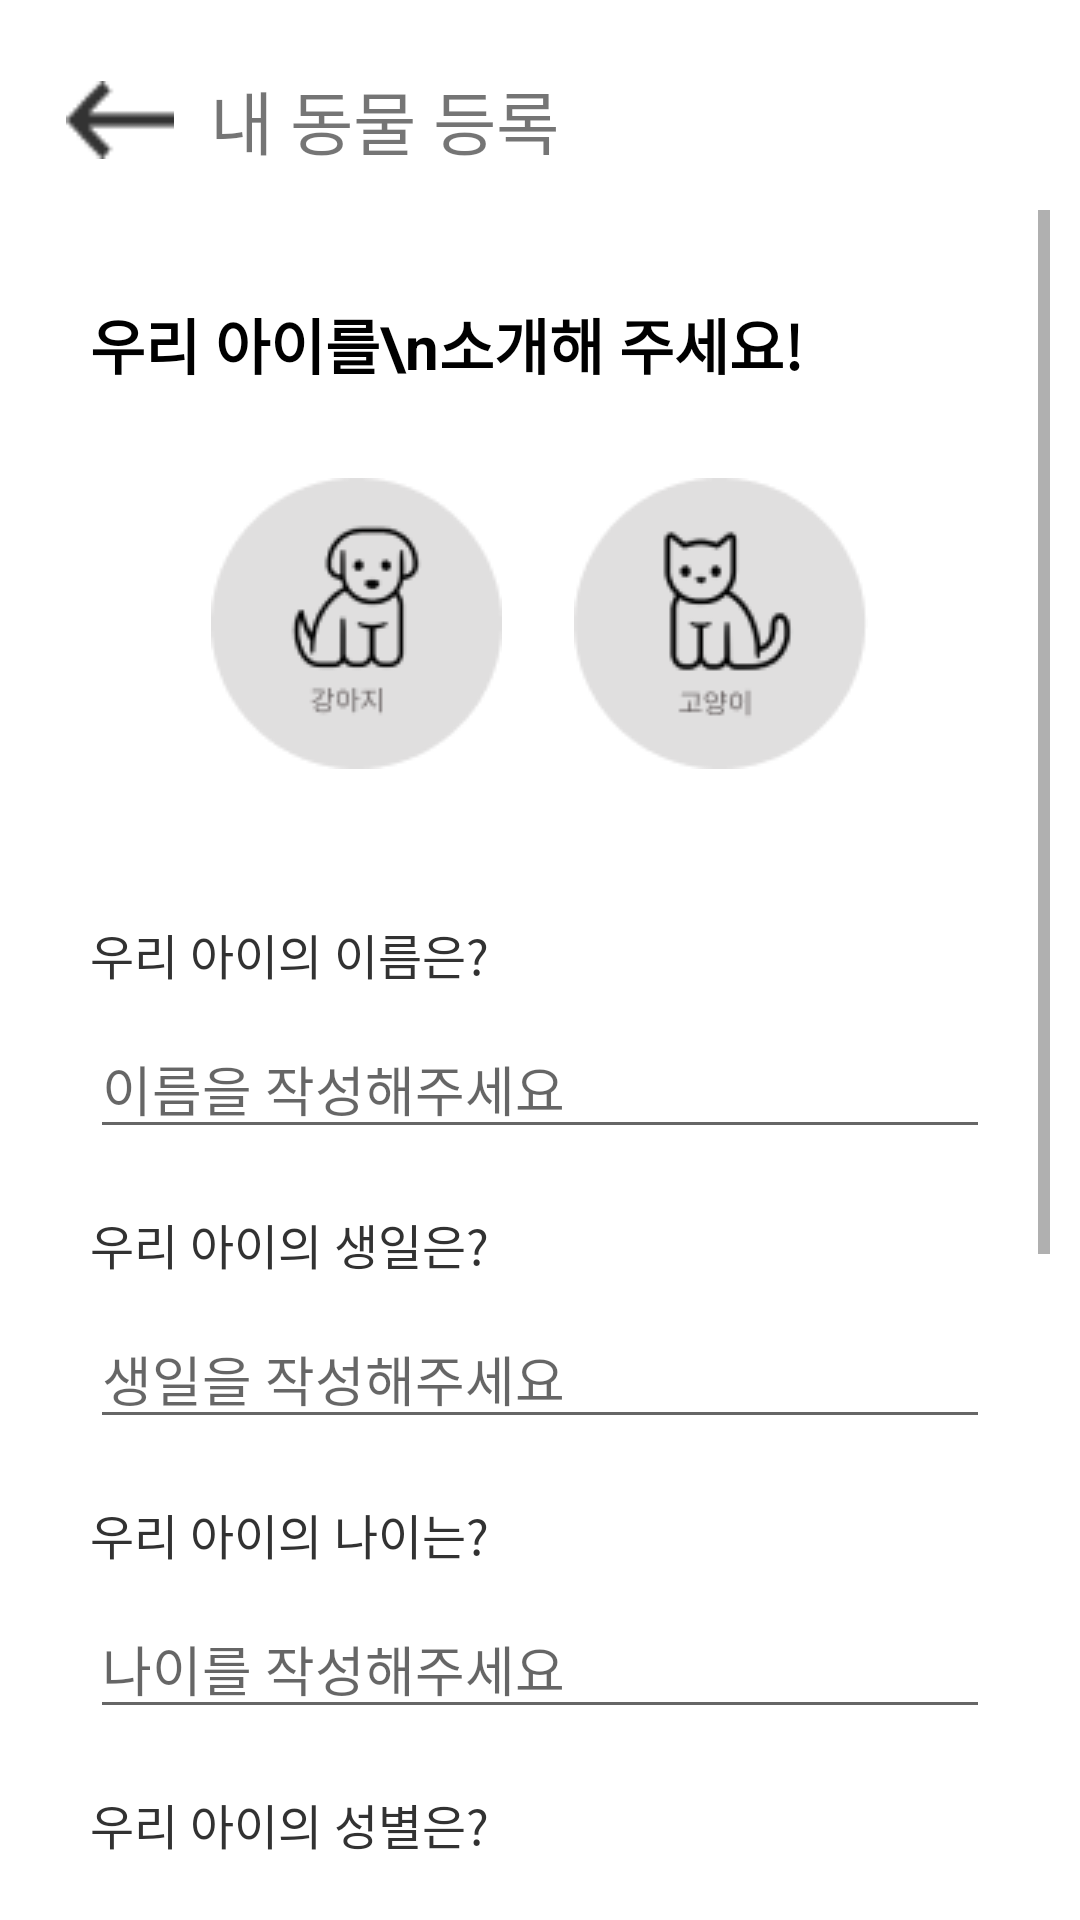

Icon bounding boxes for this 1080w x 1920h phone screenshot, format (x1, y1, x2, y2):
back: (66, 81, 174, 159)
